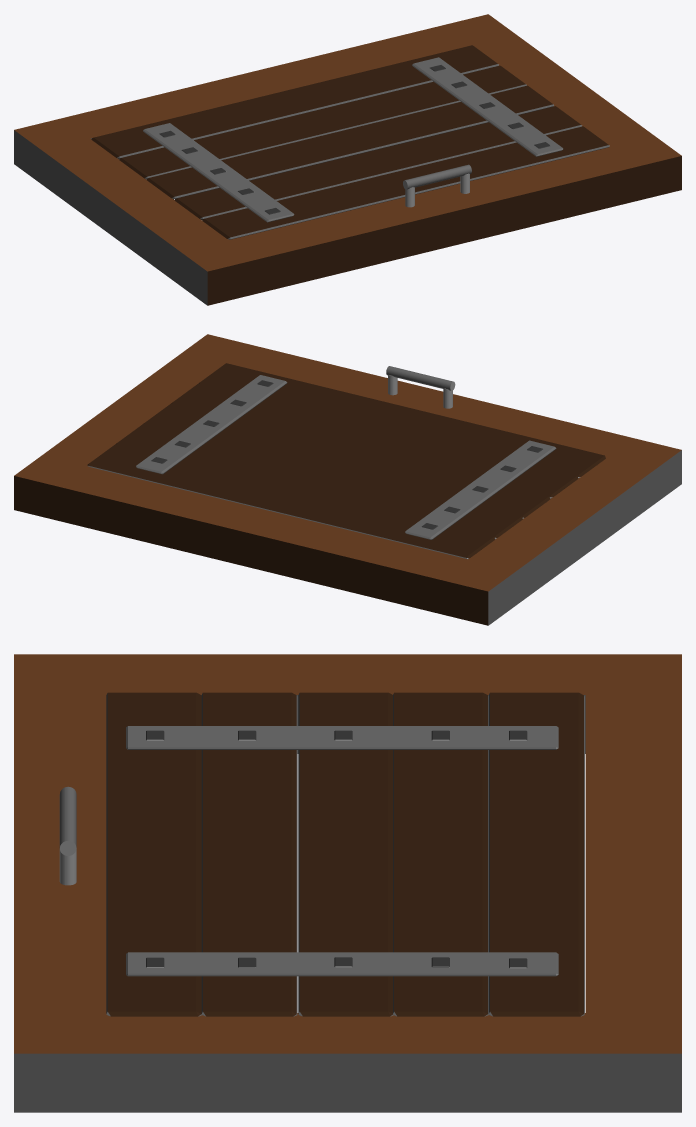
File: Trapdoor.fbx
The picture shows the model from 3 angles, top to bottom: view 1: azimuth 30°, elevation 25°; view 2: azimuth 150°, elevation 25°; view 3: azimuth 270°, elevation 25°; orthographic projection. The views are drawn at different scales.
Parts seen in each view (by area): view 1: Cube.007; view 2: Cube.007; view 3: Cube.007.
Part boxes in pixels (bbox=[...]): Cube.007: bbox=[14, 14, 681, 305]; Cube.007: bbox=[14, 334, 681, 625]; Cube.007: bbox=[14, 654, 681, 1112].
Bounding box in the file's own units: 313 × 38.82 × 221.
